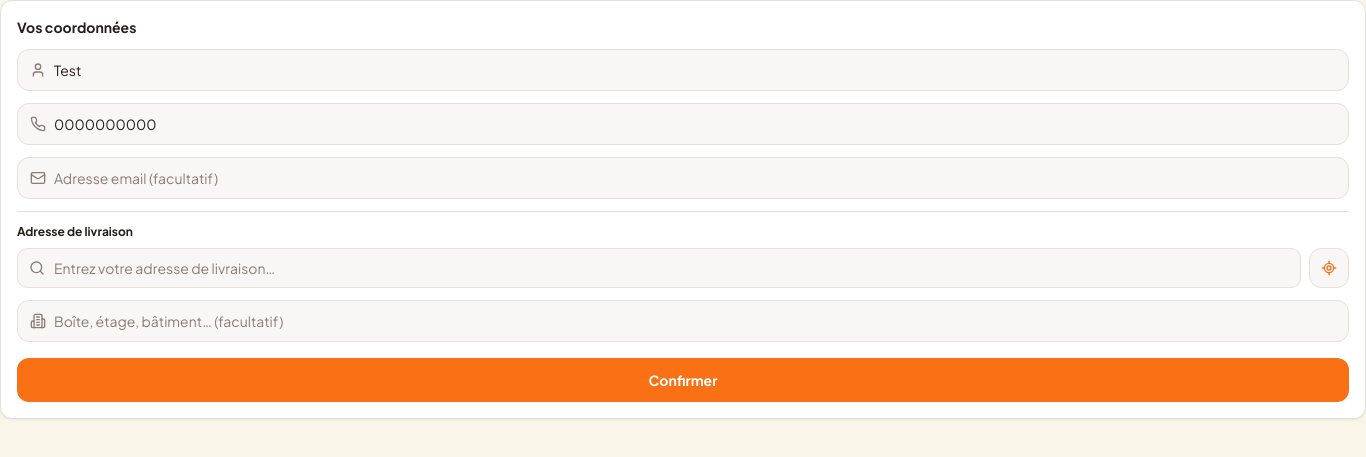
Test: keeps the delivery address mandatory outside the menu flow
Click the button "Confirmer" at (683, 380), box [17,358,1349,402]
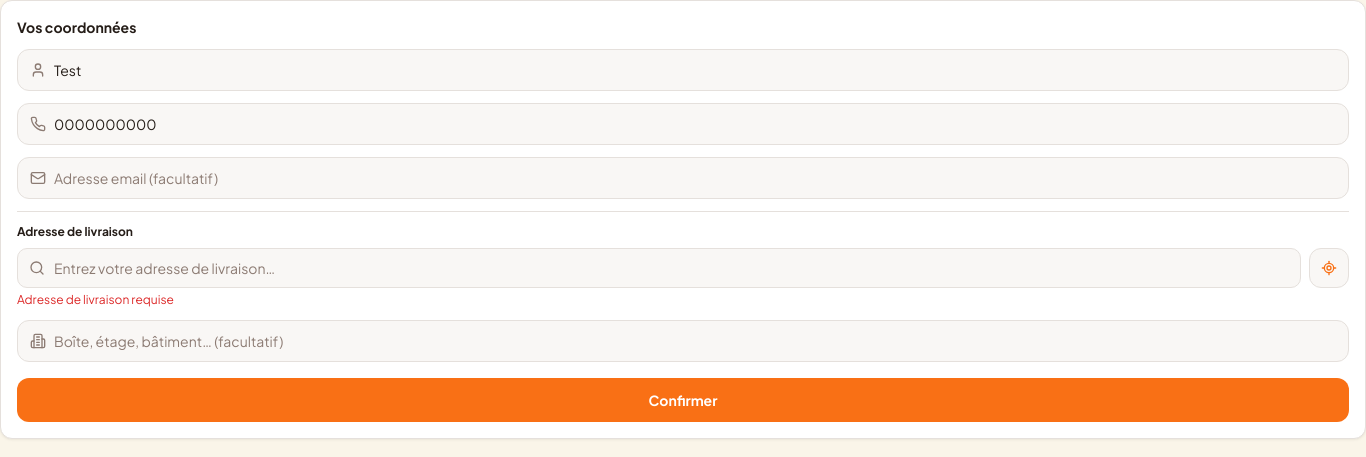
Now the text "Adresse de livraison requise" is shown, box [17,292,174,307]
